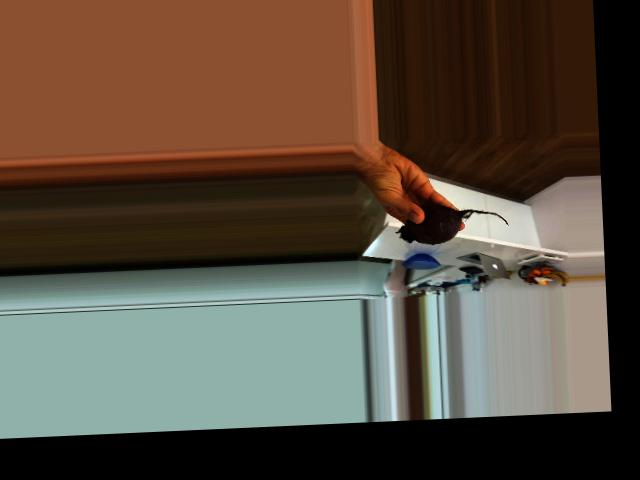beet: (396, 201, 509, 245)
